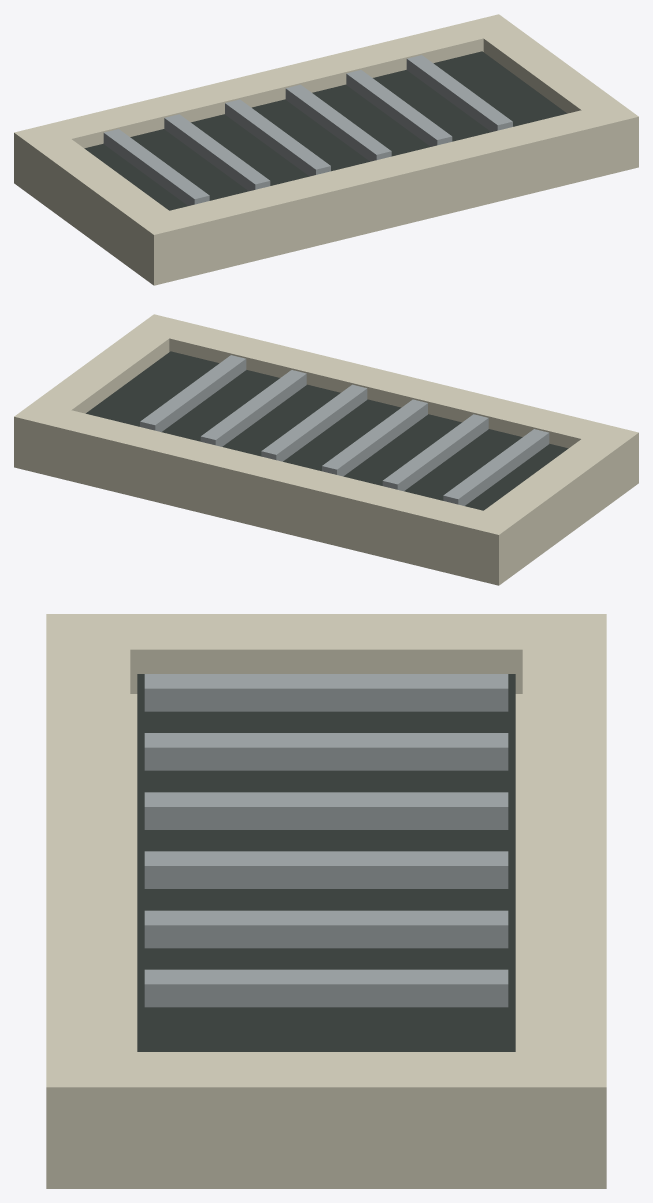
Rendered from suburban-outbreak-interiors-entry-boot-tray-b9df92f2__20020.glb.
The picture shows the model from 3 angles, top to bottom: view 1: azimuth 30°, elevation 25°; view 2: azimuth 150°, elevation 25°; view 3: azimuth 270°, elevation 25°; orthographic projection. The views are drawn at different scales.
Parts seen in each view (by area): view 1: entry-boot-tray; view 2: entry-boot-tray; view 3: entry-boot-tray.
Boxes of the visible parts, <box> form: entry-boot-tray: <box>14,14,638,285</box>; entry-boot-tray: <box>14,314,638,585</box>; entry-boot-tray: <box>46,614,606,1188</box>.
Size of the model in its own units: 0.8 by 0.083 by 0.4001.
